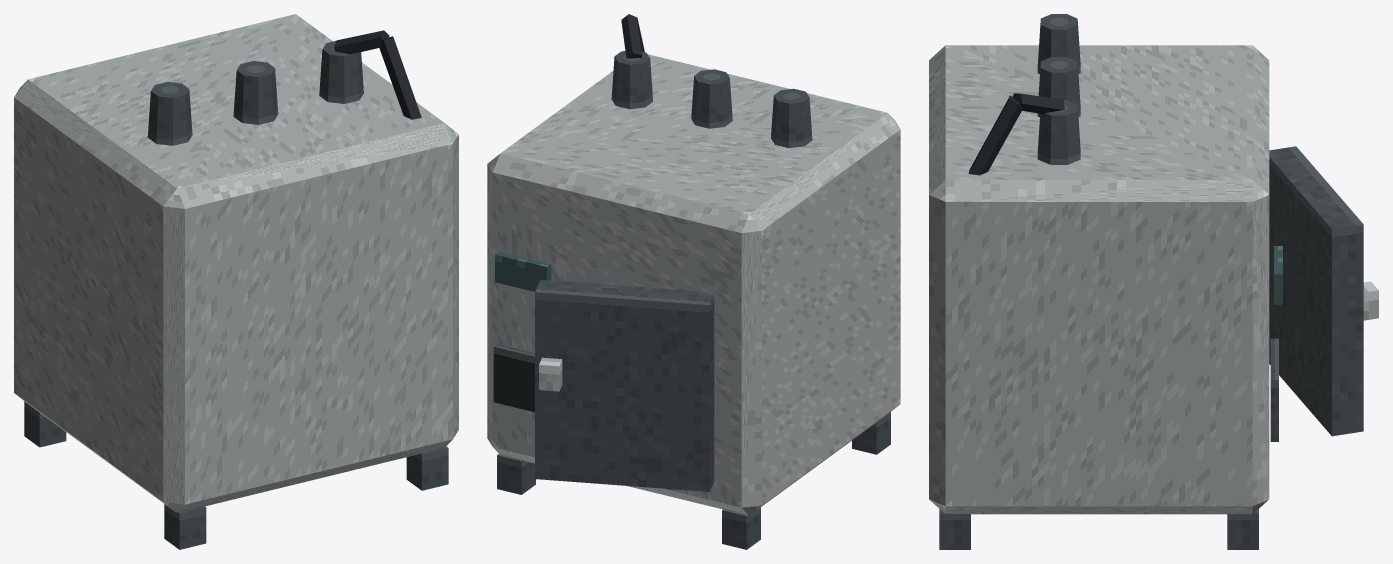
Rendered from f_arcfurnace_empty.glb.
The picture shows the model from 3 angles, left to right: view 1: azimuth 30°, elevation 25°; view 2: azimuth 150°, elevation 25°; view 3: azimuth 270°, elevation 25°; orthographic projection. The views are drawn at different scales.
Visible parts, largest first — view 1: block_insulated-heating-chamber, block_insulated-service-terminal (×3), block_leg--0.332-0.332, block_leg-0.332-0.332, block_shielded-supply-line-2, block_leg--0.332--0.332, block_shielded-supply-line-1; view 2: block_insulated-heating-chamber, block_heating-chamber-door, block_insulated-service-terminal (×3), block_thermal-slotted-intake, block_heat-controller, block_leg--0.332--0.332, block_leg-0.332--0.332, block_leg--0.332-0.332, block_door-draw-latch, block_shielded-supply-line-1; view 3: block_insulated-heating-chamber, block_heating-chamber-door, block_insulated-service-terminal (×3), block_shielded-supply-line-2, block_leg-0.332-0.332, block_leg-0.332--0.332, block_thermal-slotted-intake, block_shielded-supply-line-1, block_door-draw-latch.
Boxes of the visible parts, x1,y1,x2,y2 form: block_insulated-heating-chamber: (14, 14, 458, 512); block_insulated-service-terminal (×3): (147, 40, 363, 145); block_leg--0.332-0.332: (164, 504, 206, 549); block_leg-0.332-0.332: (406, 446, 448, 490); block_shielded-supply-line-2: (379, 36, 421, 119); block_leg--0.332--0.332: (24, 401, 66, 447); block_shielded-supply-line-1: (334, 30, 389, 54); block_insulated-heating-chamber: (487, 54, 900, 515); block_heating-chamber-door: (535, 279, 714, 491); block_insulated-service-terminal (×3): (611, 51, 812, 147); block_thermal-slotted-intake: (493, 344, 534, 412); block_heat-controller: (495, 251, 551, 291); block_leg--0.332--0.332: (722, 507, 760, 549); block_leg-0.332--0.332: (497, 454, 535, 494); block_leg--0.332-0.332: (852, 412, 890, 454); block_door-draw-latch: (539, 357, 562, 391); block_shielded-supply-line-1: (621, 15, 642, 58); block_insulated-heating-chamber: (929, 45, 1269, 514); block_heating-chamber-door: (1269, 146, 1363, 436); block_insulated-service-terminal (×3): (1037, 14, 1080, 164); block_shielded-supply-line-2: (968, 96, 1022, 175); block_leg-0.332-0.332: (939, 509, 970, 549); block_leg-0.332--0.332: (1227, 509, 1258, 549); block_thermal-slotted-intake: (1270, 338, 1278, 441); block_shielded-supply-line-1: (1013, 93, 1064, 114); block_door-draw-latch: (1363, 281, 1378, 320).
Size of the model in its own units: 0.81 by 1.13 by 1.04.
1 material, 1 textured.
